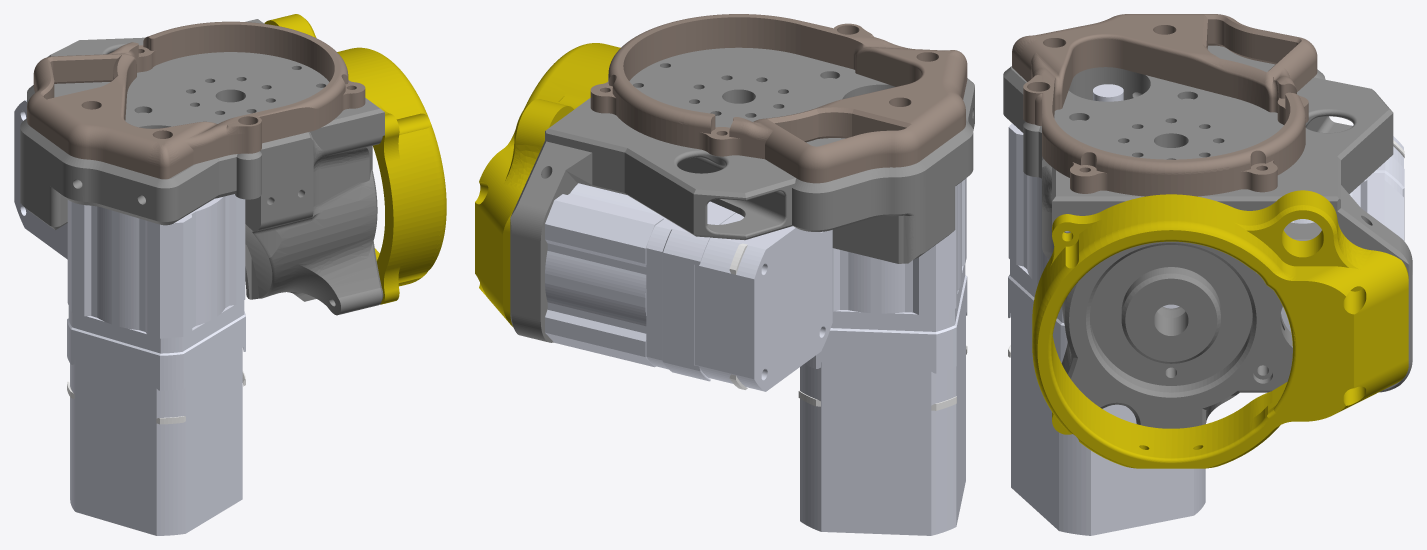
3 views of the same model, side by side, from view 1: azimuth 30°, elevation 25°; view 2: azimuth 150°, elevation 25°; view 3: azimuth 270°, elevation 25° (orthographic). The views are drawn at different scales.
Parts seen in each view (by area): view 1: node0.003; view 2: node0.003; view 3: node0.003.
Part boxes in pixels (bbox=[...]): node0.003: bbox=[14, 14, 446, 535]; node0.003: bbox=[475, 14, 974, 535]; node0.003: bbox=[1003, 14, 1412, 535].
Bounding box in the file's own units: 0.1183 × 0.106 × 0.1265.
